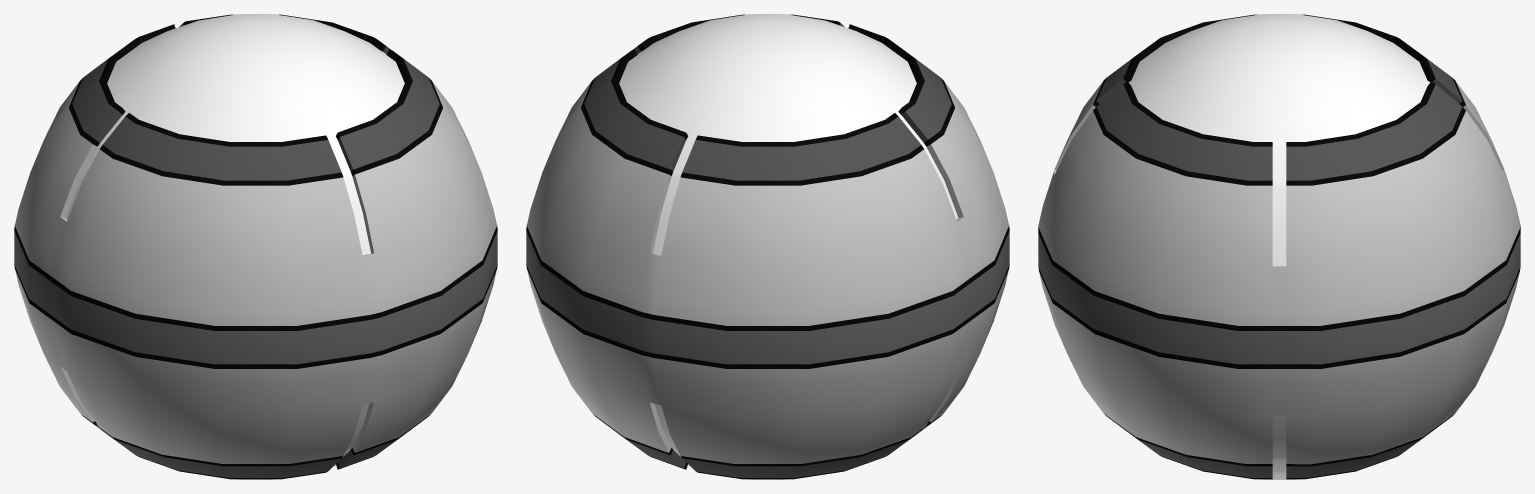
File: MOb_Capsule_White.fbx
3 views of the same model, side by side, from view 1: azimuth 30°, elevation 25°; view 2: azimuth 150°, elevation 25°; view 3: azimuth 270°, elevation 25° (orthographic).
Visible parts, largest first — view 1: MOb_Capsule_White; view 2: MOb_Capsule_White; view 3: MOb_Capsule_White.
Boxes of the visible parts, x1,y1,x2,y2 form: MOb_Capsule_White: (14, 14, 497, 479); MOb_Capsule_White: (526, 14, 1009, 479); MOb_Capsule_White: (1038, 14, 1520, 479).
Bounding box in the file's own units: 0.3555 × 0.3494 × 0.3599.
